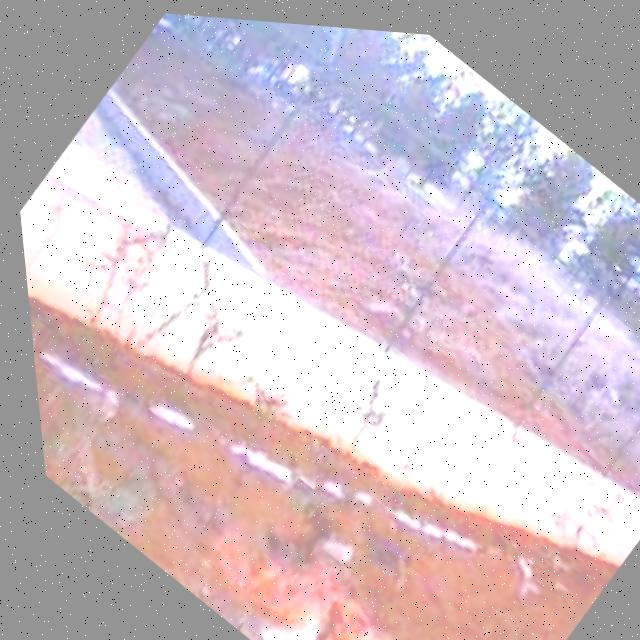Fire: (187, 505, 412, 640)
